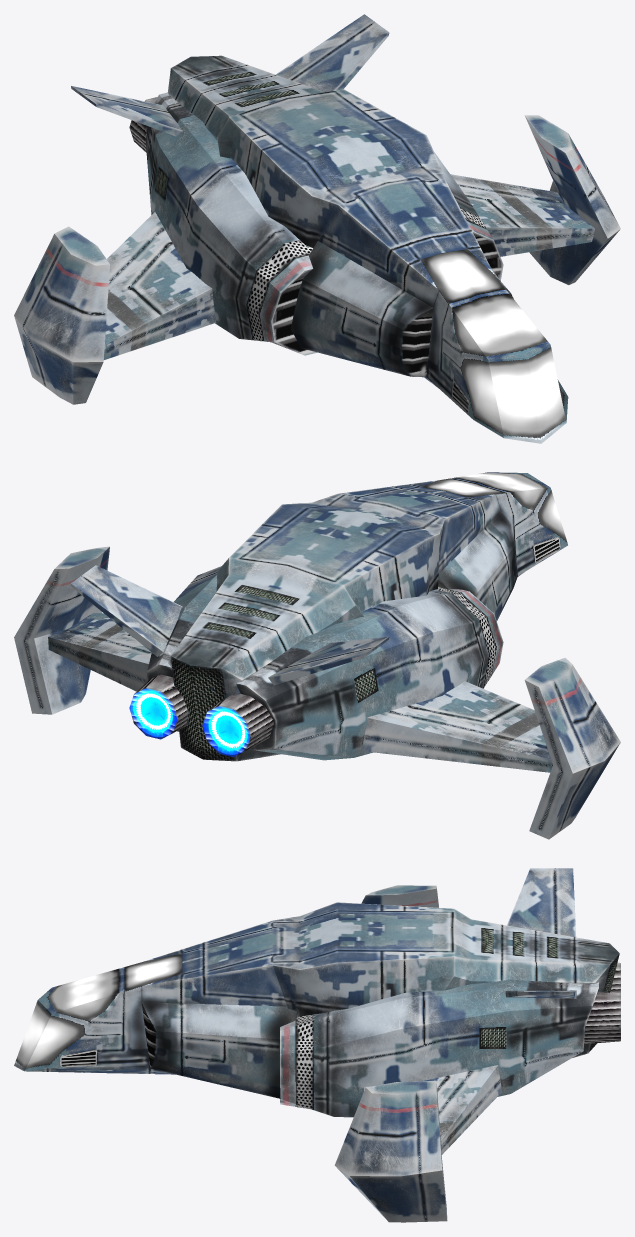
The picture shows the model from 3 angles, top to bottom: view 1: azimuth 30°, elevation 25°; view 2: azimuth 150°, elevation 25°; view 3: azimuth 270°, elevation 25°; orthographic projection. The views are drawn at different scales.
Parts seen in each view (by area): view 1: Spaceship6; view 2: Spaceship6; view 3: Spaceship6.
Boxes of the visible parts, x1=… form: Spaceship6: x1=14, y1=14, x2=620, y2=443; Spaceship6: x1=14, y1=472, x2=620, y2=839; Spaceship6: x1=14, y1=868, x2=620, y2=1222.
Size of the model in its own units: 11.89 by 4.34 by 12.6.
Materials: 1 (1 with a texture image).
